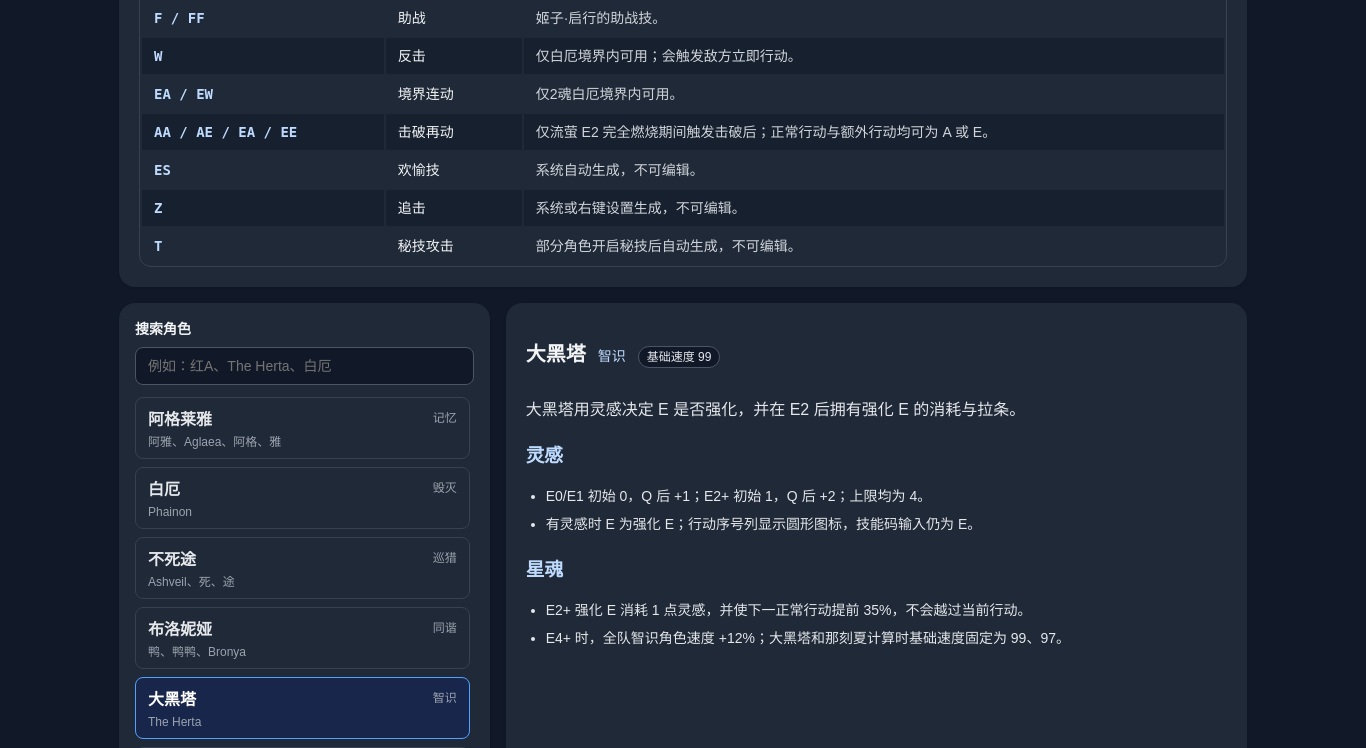
Test case: 使用指南 › 为不死途与卡芙卡展示追击充能说明
The image size is (1366, 748).
(page scrolled)
Type "卡芙卡" into the field labelled "搜索角色" at {"x": 304, "y": 366}, box [135,347,474,385]
(page scrolled)
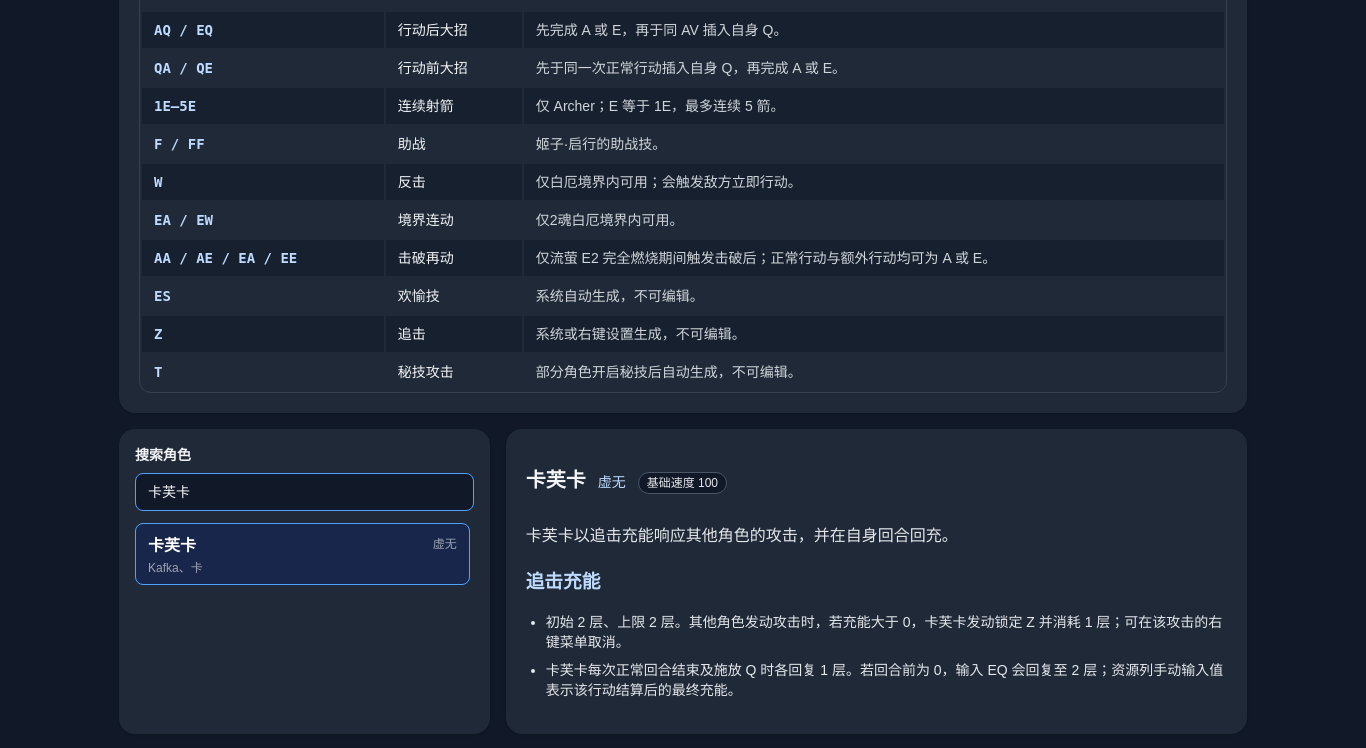
Check: the list item "初始 2 层、上限 2 层。其他角色发动攻击时，若充能大于 0，卡芙卡发动锁定 Z 并消耗 1 层；可在该攻击的右键菜单取消。" is shown, box [546,612,1227,652]
